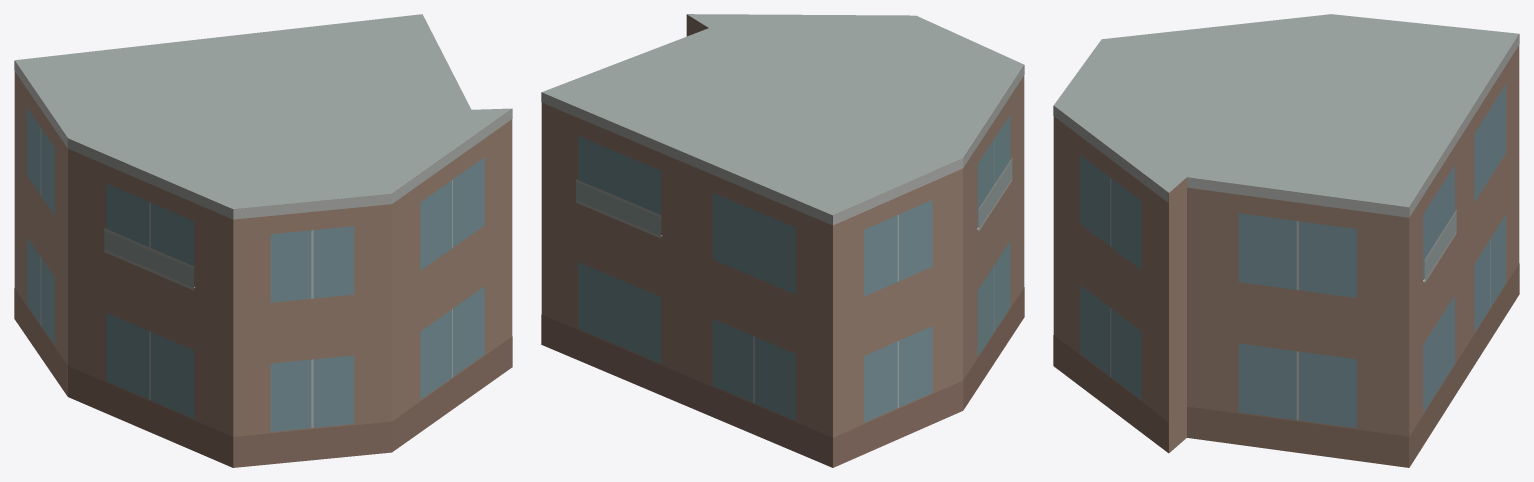
The model's file is survey-upis-32984221.glb.
3 renders of one model, left to right at view 1: azimuth 30°, elevation 25°; view 2: azimuth 150°, elevation 25°; view 3: azimuth 270°, elevation 25°, orthographic. The views are drawn at different scales.
Visible parts, largest first — view 1: survey-upis-32984221.tmp; view 2: survey-upis-32984221.tmp; view 3: survey-upis-32984221.tmp.
Part boxes in pixels (bbox=[...]): survey-upis-32984221.tmp: bbox=[14, 14, 512, 467]; survey-upis-32984221.tmp: bbox=[541, 14, 1024, 467]; survey-upis-32984221.tmp: bbox=[1053, 14, 1519, 467].
Bounding box in the file's own units: 9.72 × 6.1 × 9.9.
